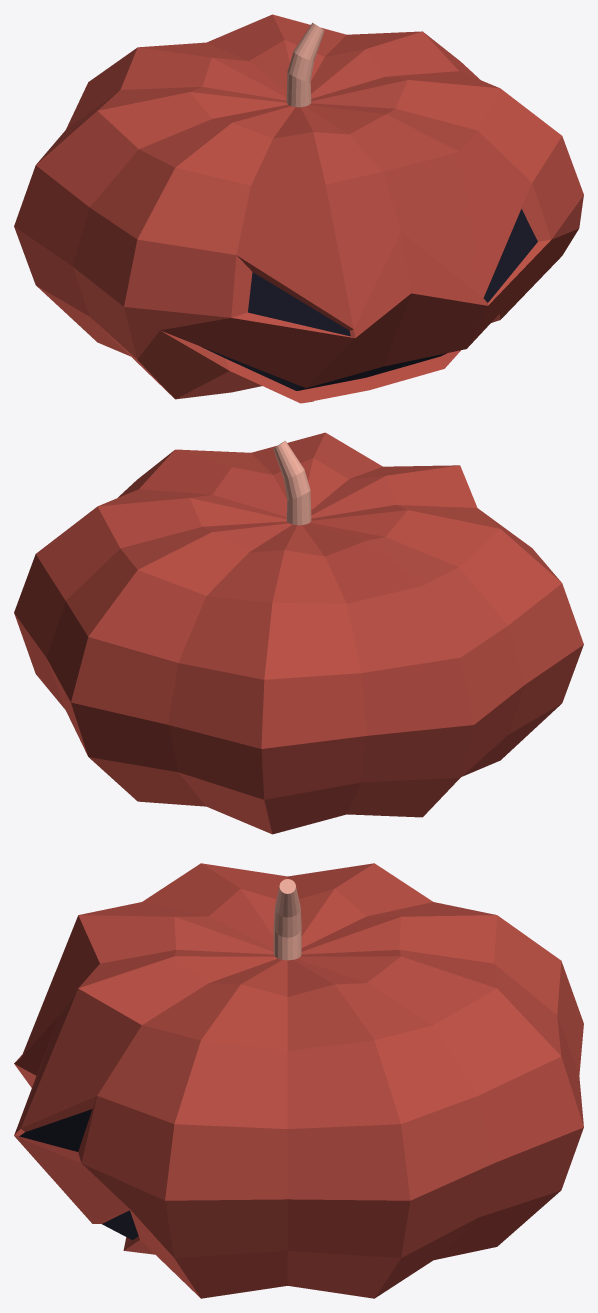
Rendered from Pumpkin.fbx.
3 renders of one model, top to bottom at view 1: azimuth 30°, elevation 25°; view 2: azimuth 150°, elevation 25°; view 3: azimuth 270°, elevation 25°, orthographic. The views are drawn at different scales.
Visible parts, largest first — view 1: Pumpkin; view 2: Pumpkin; view 3: Pumpkin.
Boxes of the visible parts, left/top/right/bottom form: Pumpkin: left=14, top=14, right=583, bottom=403; Pumpkin: left=14, top=432, right=583, bottom=834; Pumpkin: left=14, top=863, right=583, bottom=1298.
Bounding box in the file's own units: 60.44 × 41.23 × 58.15.
